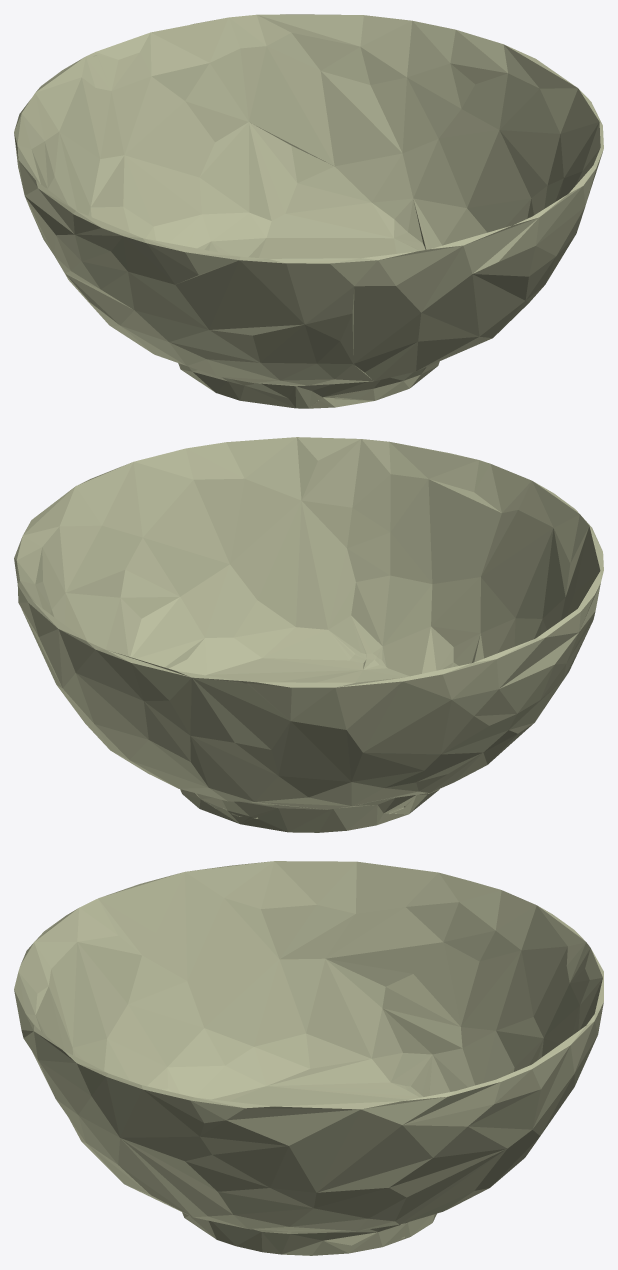
File: tinker.obj
The picture shows the model from 3 angles, top to bottom: view 1: azimuth 30°, elevation 25°; view 2: azimuth 150°, elevation 25°; view 3: azimuth 270°, elevation 25°; orthographic projection.
Visible parts, largest first — view 1: obj_0; view 2: obj_0; view 3: obj_0.
Boxes of the visible parts, x1,y1,x2,y2 form: obj_0: [14, 14, 603, 408]; obj_0: [14, 437, 603, 832]; obj_0: [14, 861, 603, 1255].
Size of the model in its own units: 3.71 by 1.51 by 3.74.
